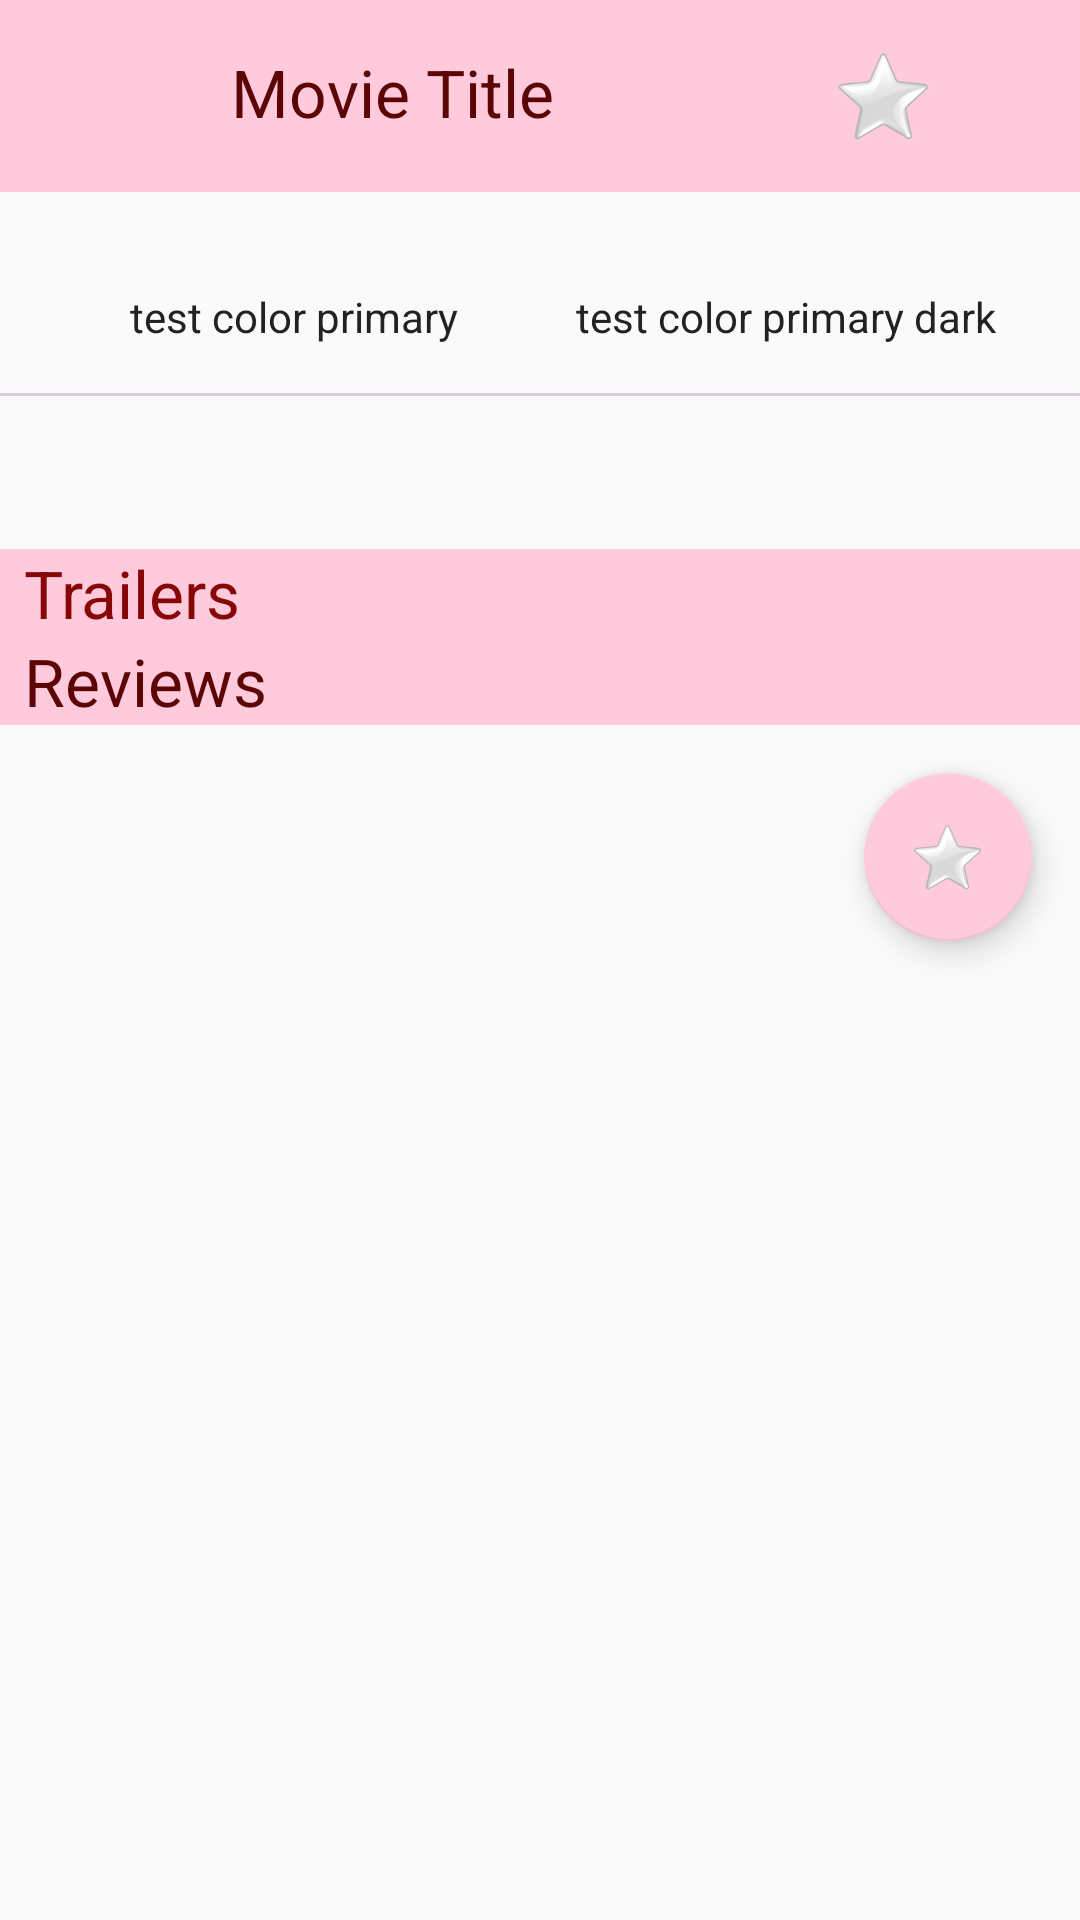

Point at icon controls on the screen. Image size 1080×1920, points as point (x, y).
star: point (883, 96), point (948, 857)
